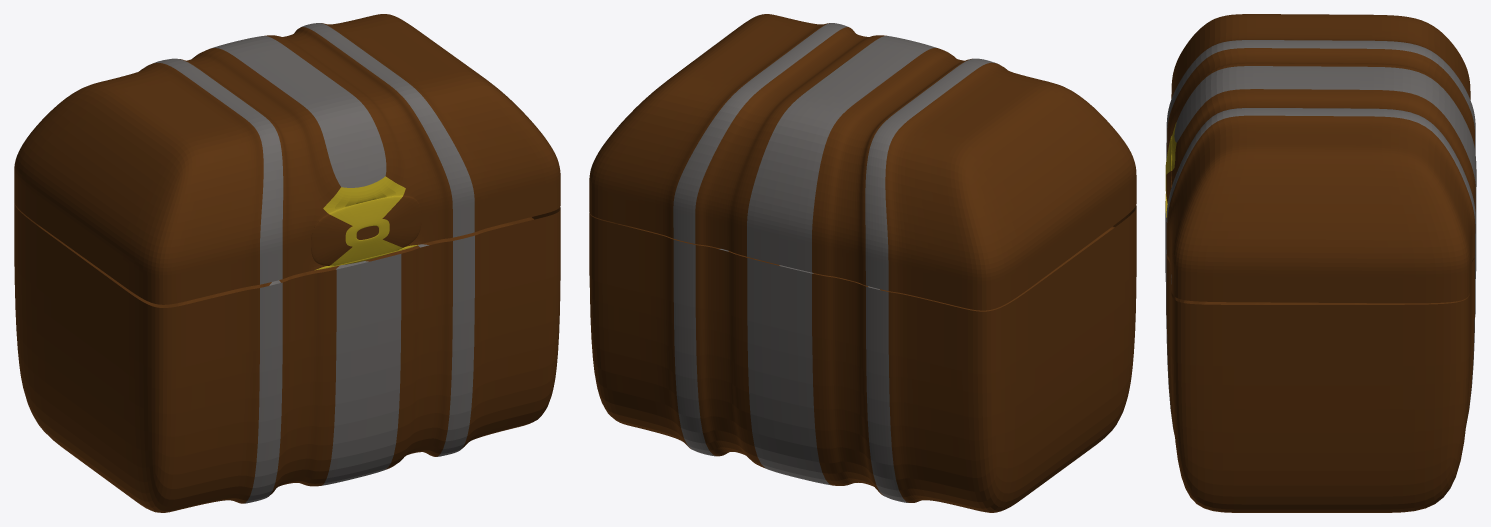
The model's file is TreasureChest.fbx.
3 renders of one model, left to right at view 1: azimuth 30°, elevation 25°; view 2: azimuth 150°, elevation 25°; view 3: azimuth 270°, elevation 25°, orthographic. The views are drawn at different scales.
Parts seen in each view (by area): view 1: cuepro, tapa; view 2: cuepro, tapa; view 3: tapa, cuepro.
Part boxes in pixels (x1,y1,x2,y2): cuepro: (14,203,560,512); tapa: (14,14,560,304); cuepro: (589,205,1136,512); tapa: (589,14,1136,310); tapa: (1165,14,1476,303); cuepro: (1165,201,1476,512).
Size of the model in its own units: 314 by 263 by 208.
